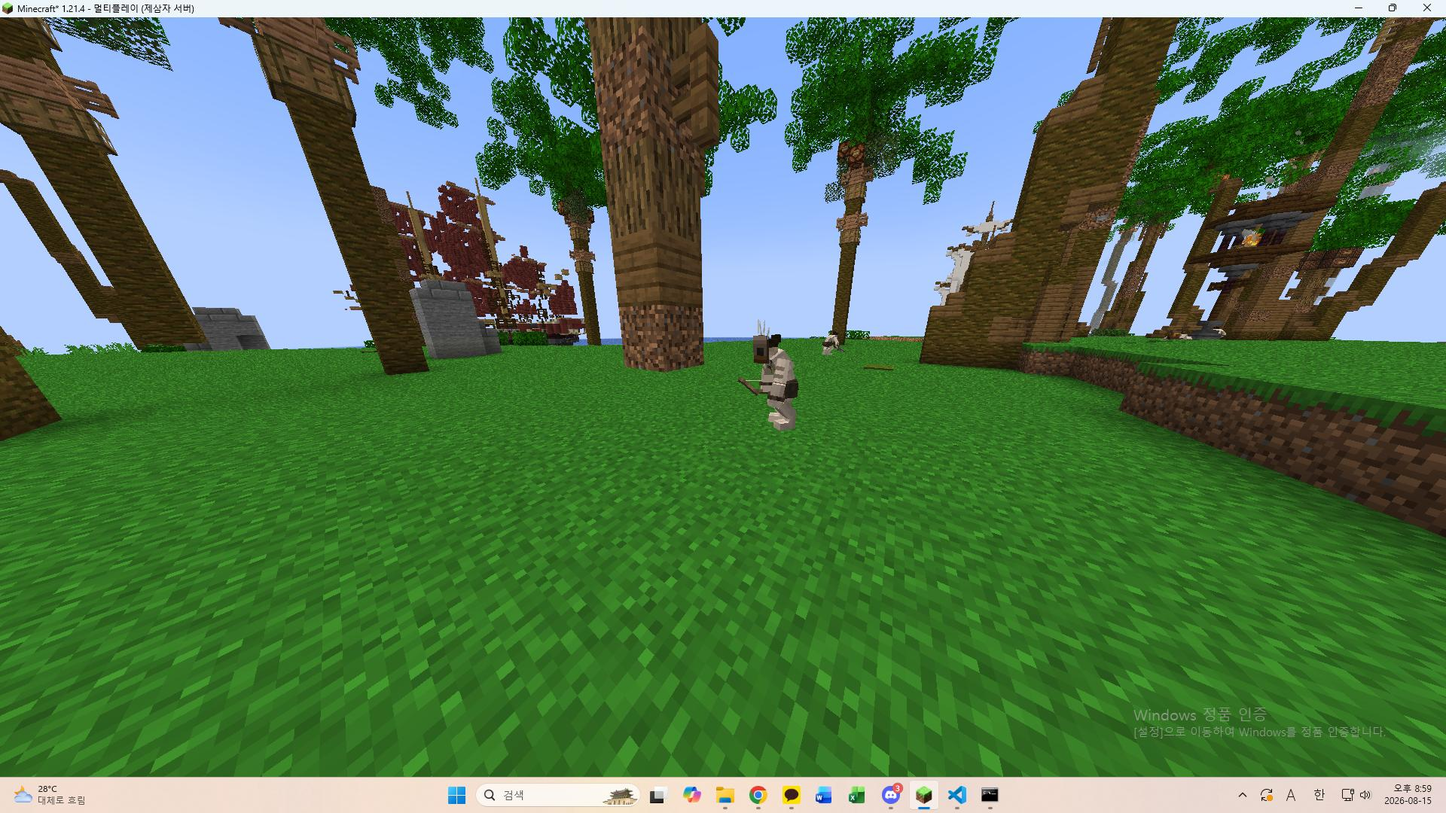bow_indian: (724, 326, 822, 440)
